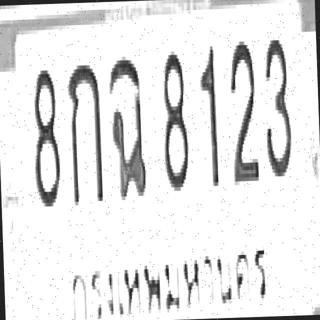A01: (66, 61, 104, 205)
A09: (107, 52, 147, 200)
N01: (198, 40, 219, 188)
N02: (227, 37, 259, 185)
N03: (262, 34, 292, 178)
N08: (30, 66, 61, 207), (160, 47, 190, 191)
P04: (63, 232, 274, 320)
